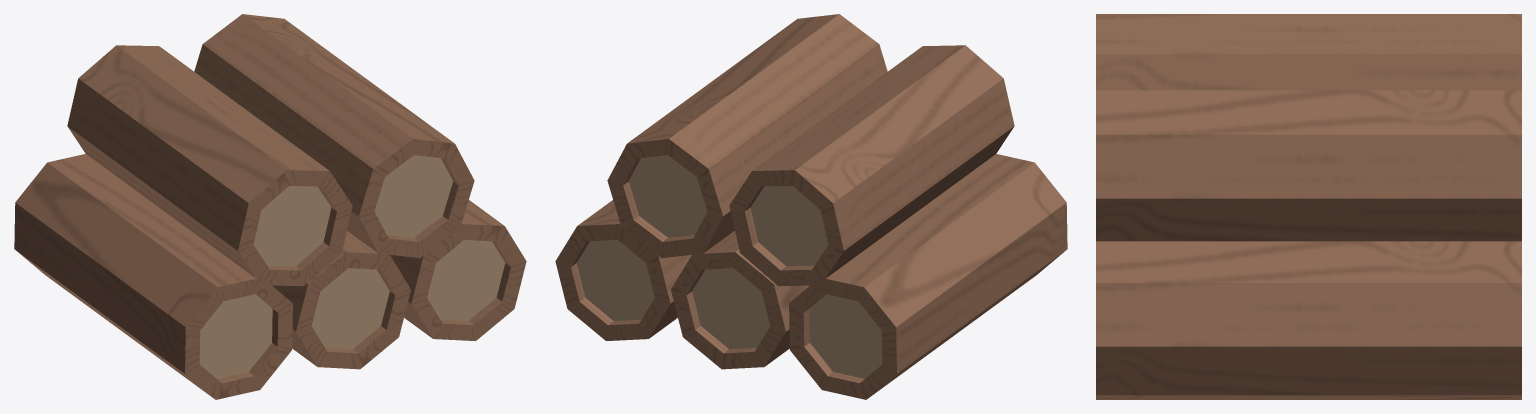
The model's file is Log_pile_Quint.fbx.
3 views of the same model, side by side, from view 1: azimuth 30°, elevation 25°; view 2: azimuth 150°, elevation 25°; view 3: azimuth 270°, elevation 25° (orthographic). The views are drawn at different scales.
Visible parts, largest first — view 1: Log_pile_Quint; view 2: Log_pile_Quint; view 3: Log_pile_Quint.
Boxes of the visible parts, box(x1,y1,x2,y2) form: Log_pile_Quint: box(14, 14, 526, 399); Log_pile_Quint: box(555, 14, 1067, 399); Log_pile_Quint: box(1096, 14, 1521, 399).
Size of the model in its own units: 121 by 73.55 by 105.
